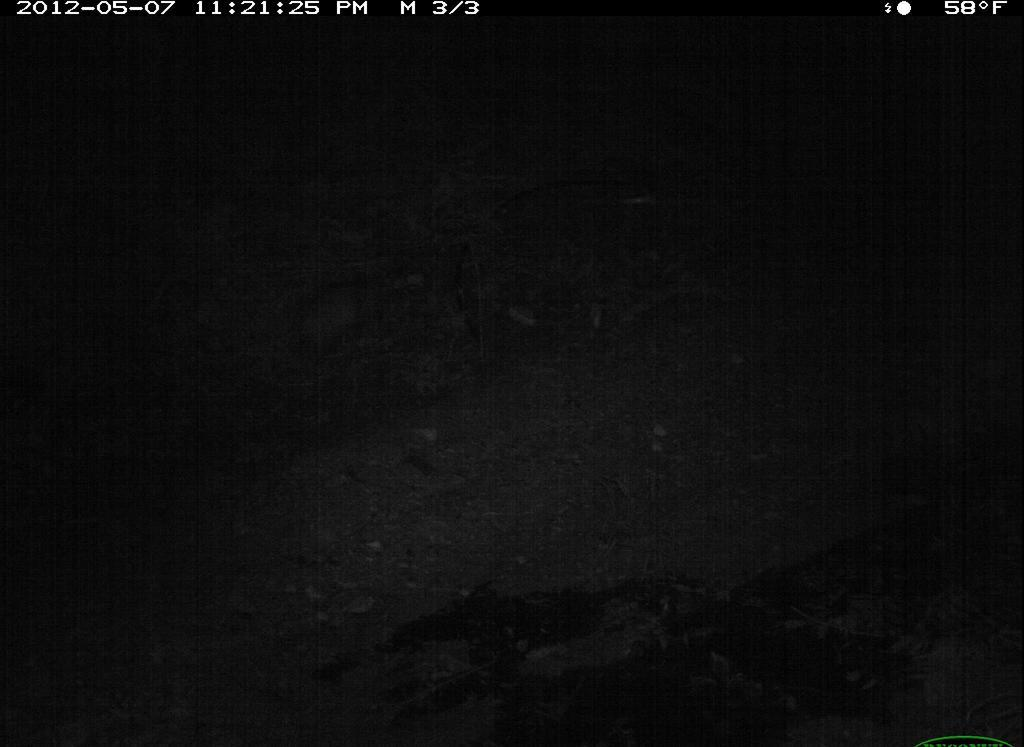opossum: (254, 262, 423, 379)
